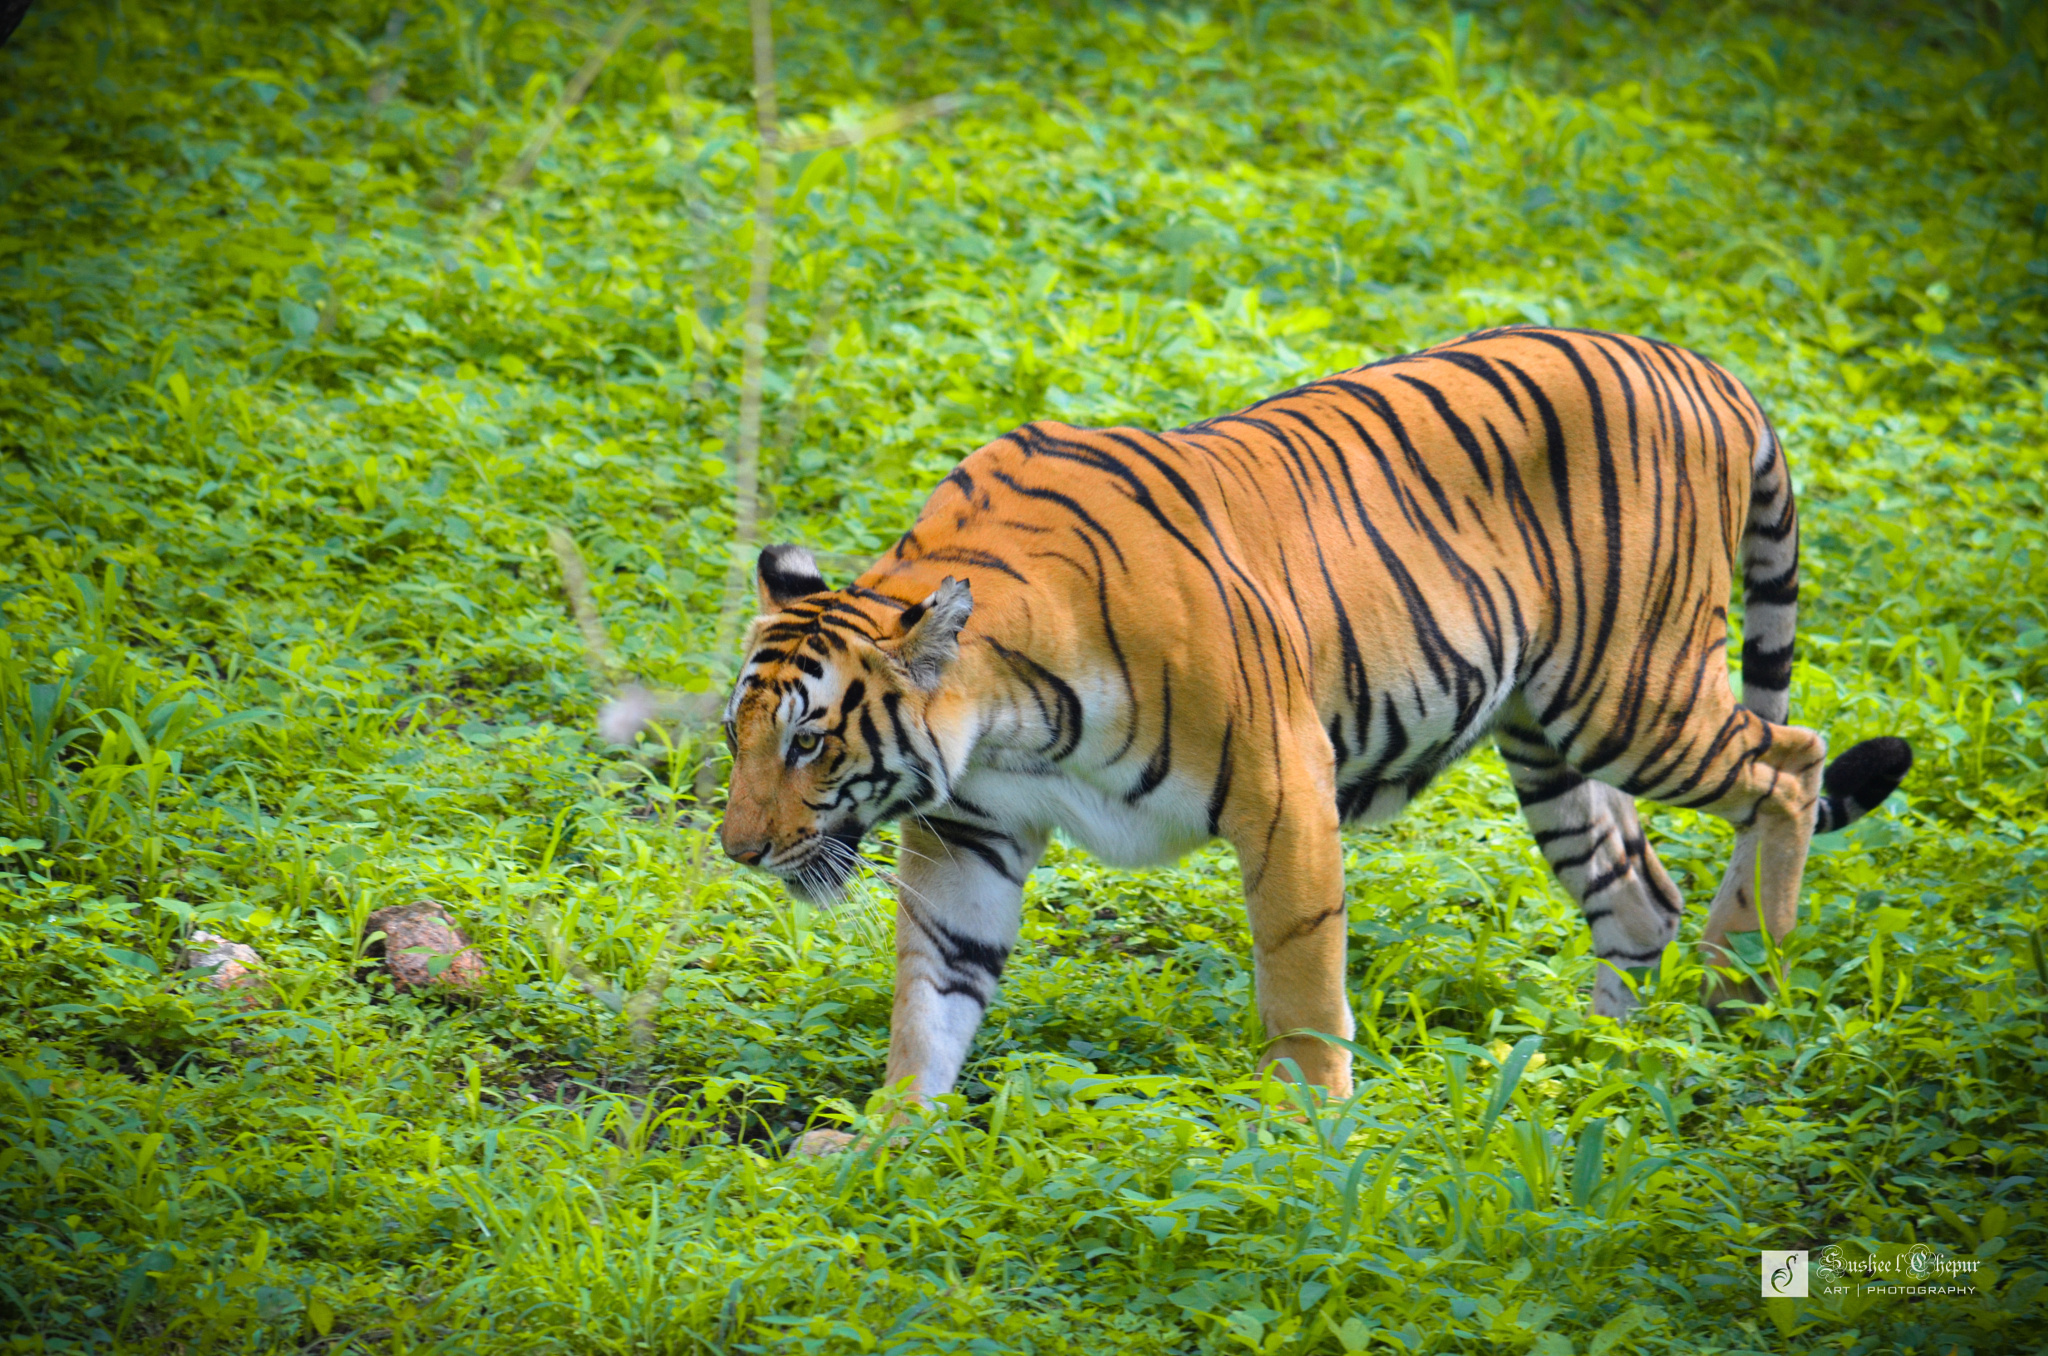tiger: (705, 295, 1835, 1165)
